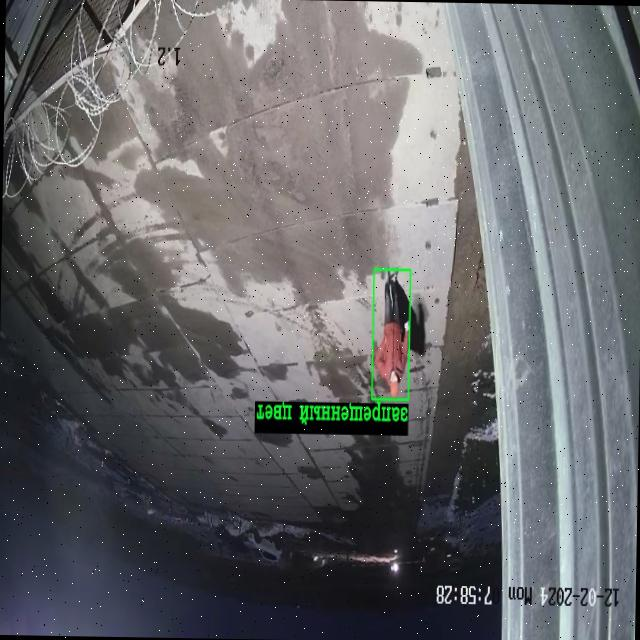Red uniform: (375, 273, 407, 396)
